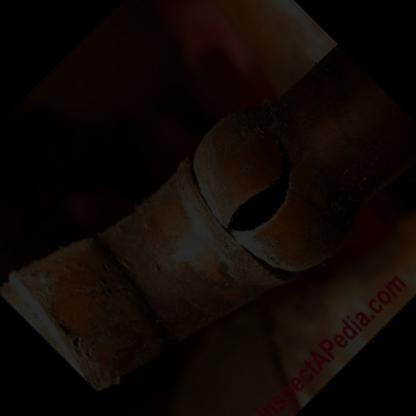burst: (201, 155, 314, 245)
